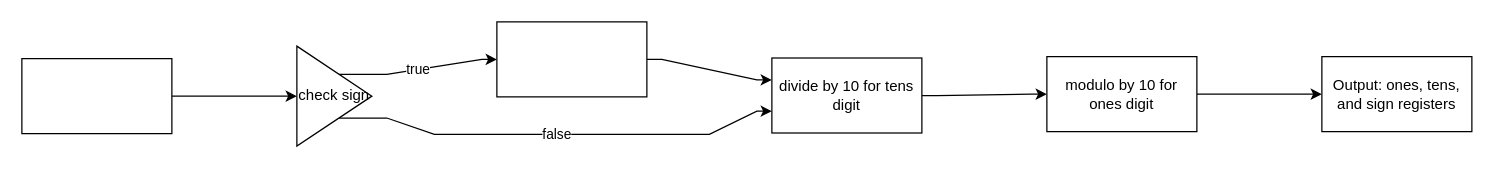
Some shapes in this 1494 by 169 pixel diagram are drawn without their labels. The shapes that lost their labels are listed below. From the top down, each one's centre as x and y in pixels, then its label:
At (x=571, y=59): "store sign".
At (x=96, y=95): "Input:signed value".
